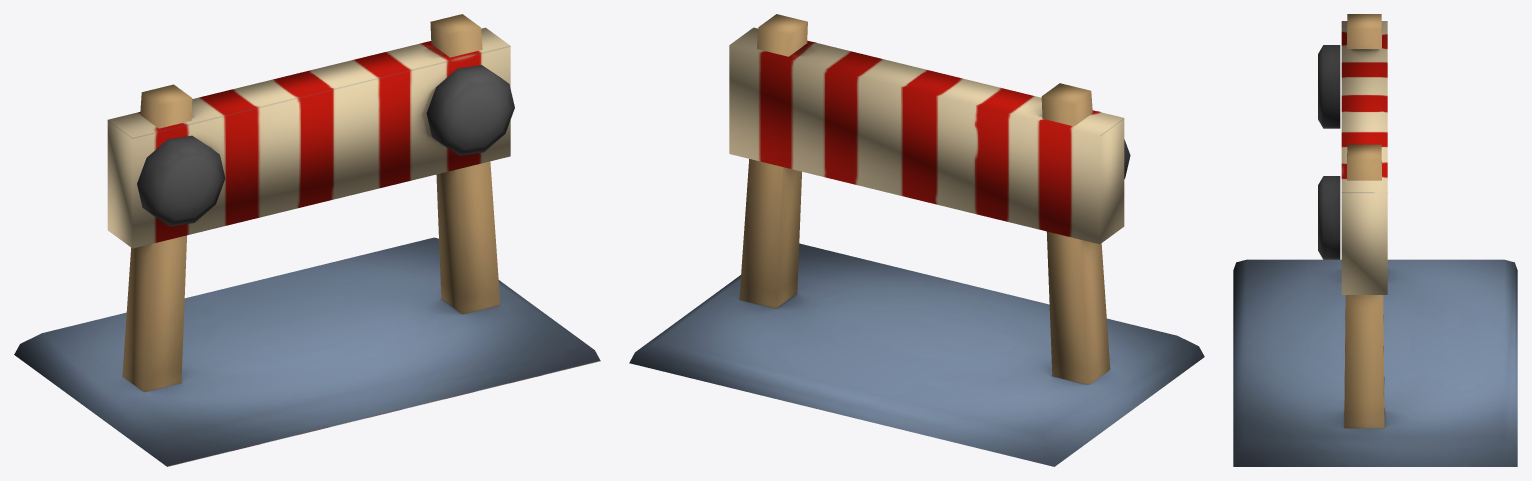
The model's file is fence_02.fbx.
3 views of the same model, side by side, from view 1: azimuth 30°, elevation 25°; view 2: azimuth 150°, elevation 25°; view 3: azimuth 270°, elevation 25° (orthographic). The views are drawn at different scales.
Parts seen in each view (by area): view 1: fence_02; view 2: fence_02; view 3: fence_02.
Boxes of the visible parts, x1,y1,x2,y2 form: fence_02: [14, 14, 600, 466]; fence_02: [629, 14, 1204, 466]; fence_02: [1233, 14, 1517, 466].
Bounding box in the file's own units: 266 × 178 × 163.
